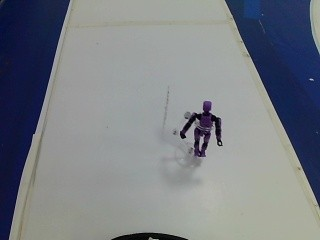pedestrian: (179, 97, 225, 160)
